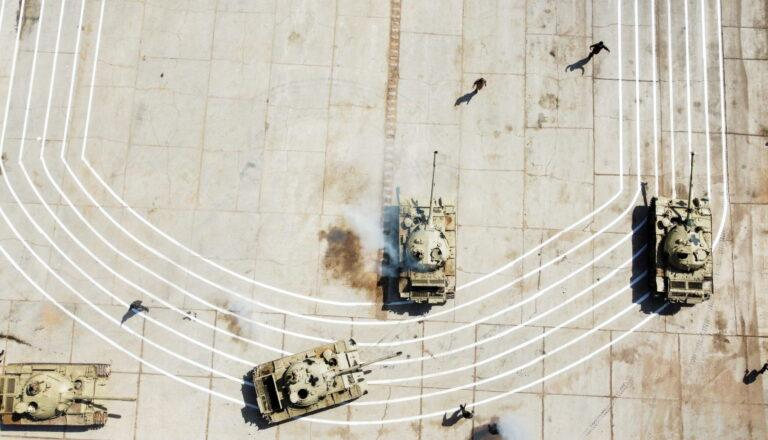tank: (248, 335, 412, 429), (646, 148, 720, 312), (393, 146, 459, 308), (3, 360, 142, 433)
